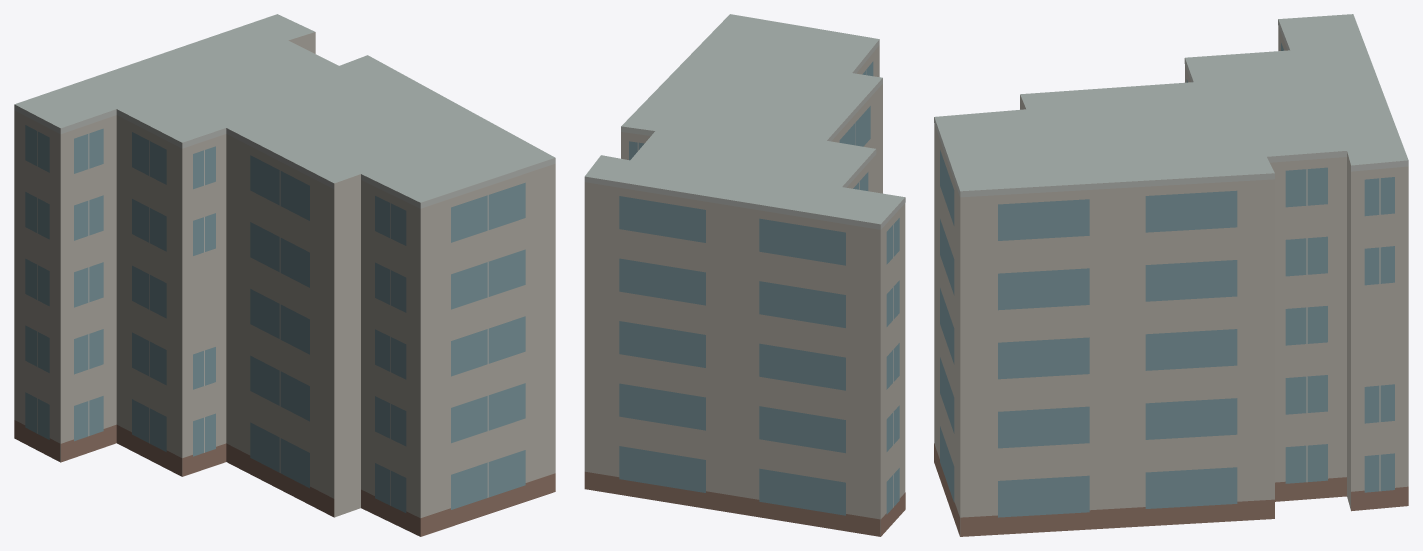
The model's file is survey-upis-32921965.glb.
3 views of the same model, side by side, from view 1: azimuth 30°, elevation 25°; view 2: azimuth 150°, elevation 25°; view 3: azimuth 270°, elevation 25° (orthographic). The views are drawn at different scales.
Visible parts, largest first — view 1: survey-upis-32921965.tmp; view 2: survey-upis-32921965.tmp; view 3: survey-upis-32921965.tmp.
Boxes of the visible parts, <box> form: survey-upis-32921965.tmp: <box>14,14,555,536</box>; survey-upis-32921965.tmp: <box>584,14,905,536</box>; survey-upis-32921965.tmp: <box>934,14,1408,536</box>.
Size of the model in its own units: 15.19 by 13.8 by 17.18.
